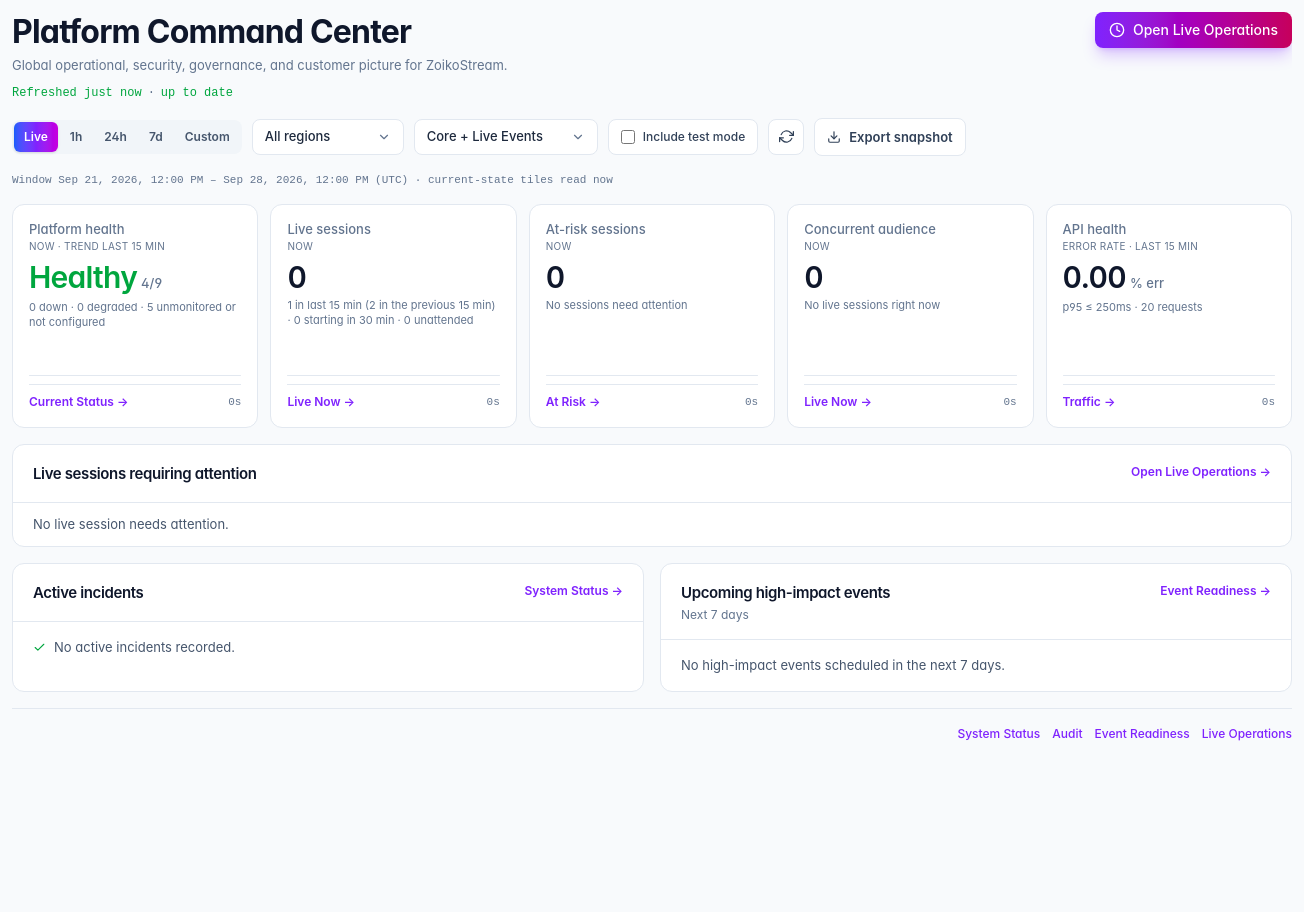
Test case: tiles say what they measure › labels current-state tiles 'Now' and the windowed audience as a peak
expect the text "Live sessions" is shown: met, box [287,221,371,237]
Click the button "7d" at (156, 136), box [139,122,173,152]
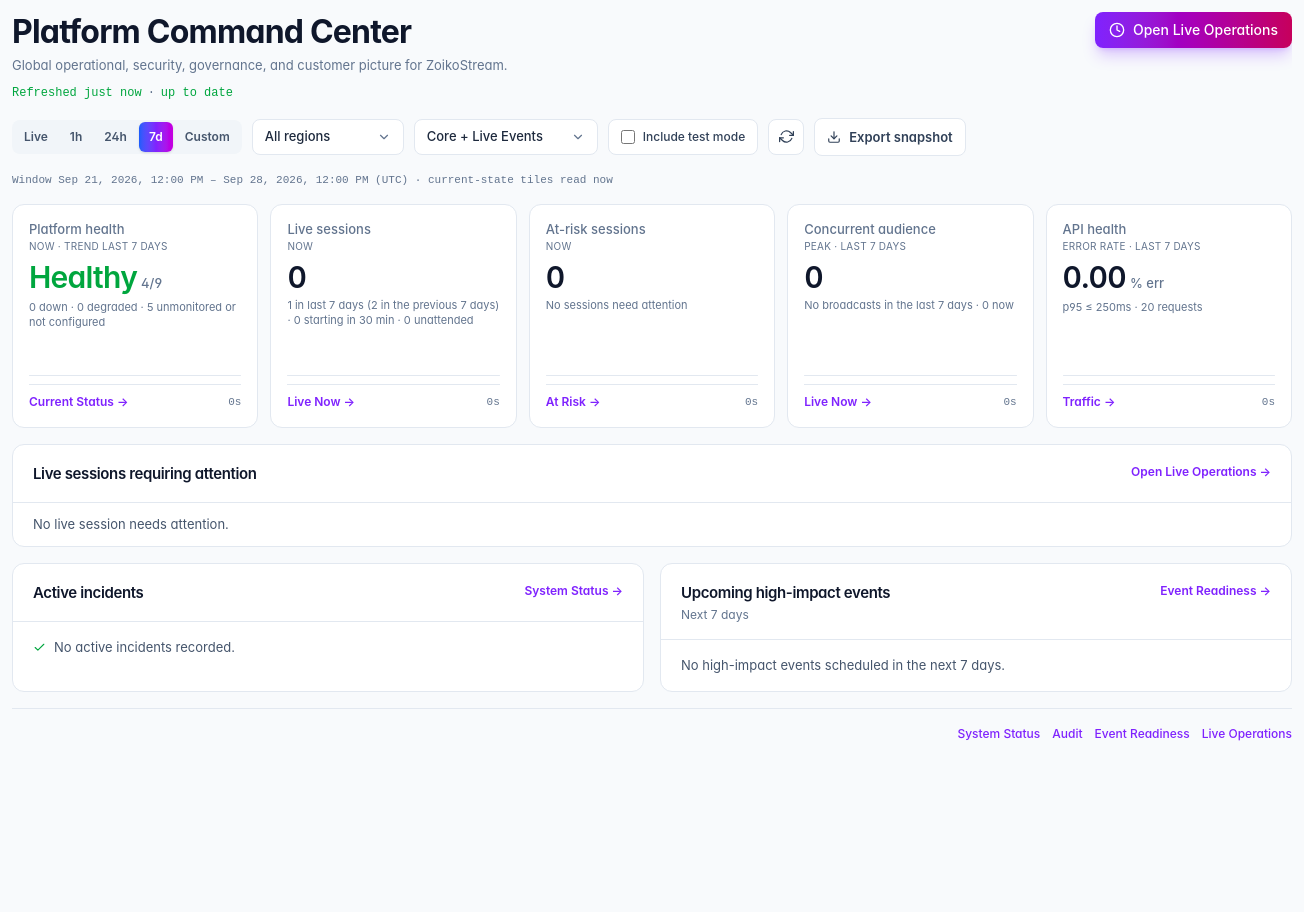
expect the text "Peak · last 7 days" is shown: met, box [804,240,906,252]
expect the text "1 in last 7 days (2 in the previous 7 days)" is shown: met, box [287,298,499,327]
